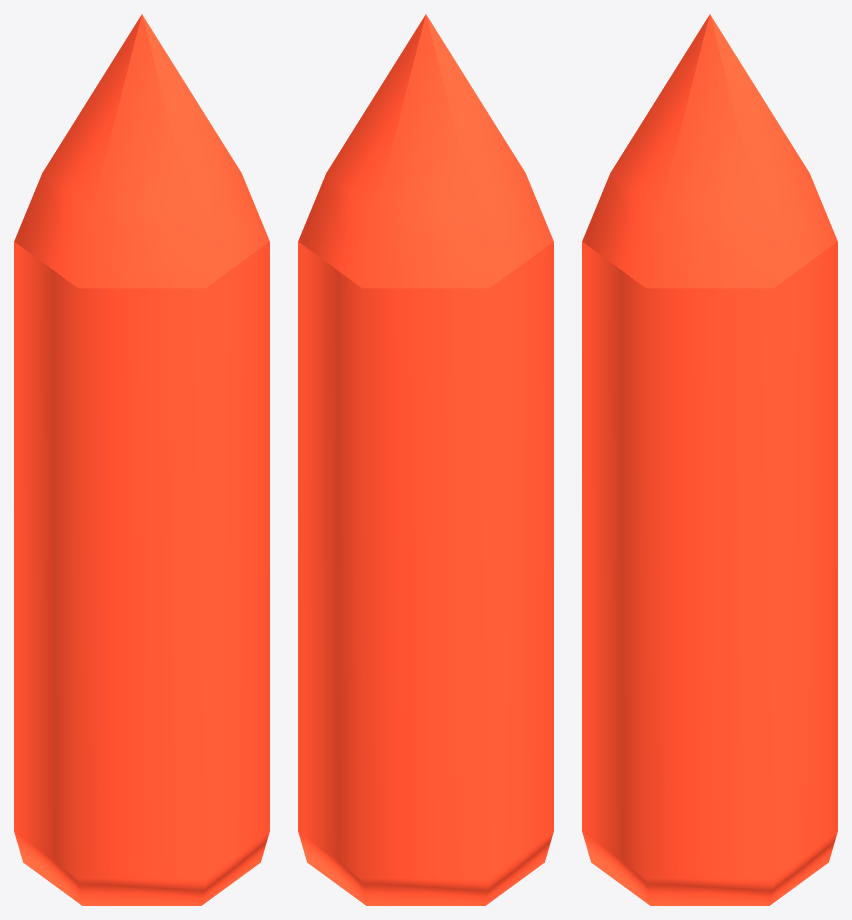
The model's file is 03-prisma.glb.
The picture shows the model from 3 angles, left to right: view 1: azimuth 30°, elevation 25°; view 2: azimuth 150°, elevation 25°; view 3: azimuth 270°, elevation 25°; orthographic projection.
Visible parts, largest first — view 1: prism_shaft, prism_tip; view 2: prism_shaft, prism_tip; view 3: prism_shaft, prism_tip.
Boxes of the visible parts, <box> form: prism_shaft: <box>14,241,269,905</box>; prism_tip: <box>14,14,269,288</box>; prism_shaft: <box>298,241,553,905</box>; prism_tip: <box>298,14,553,288</box>; prism_shaft: <box>582,241,837,905</box>; prism_tip: <box>582,14,837,288</box>.
Bounding box in the file's own units: 0.4539 × 1.92 × 0.5242.
